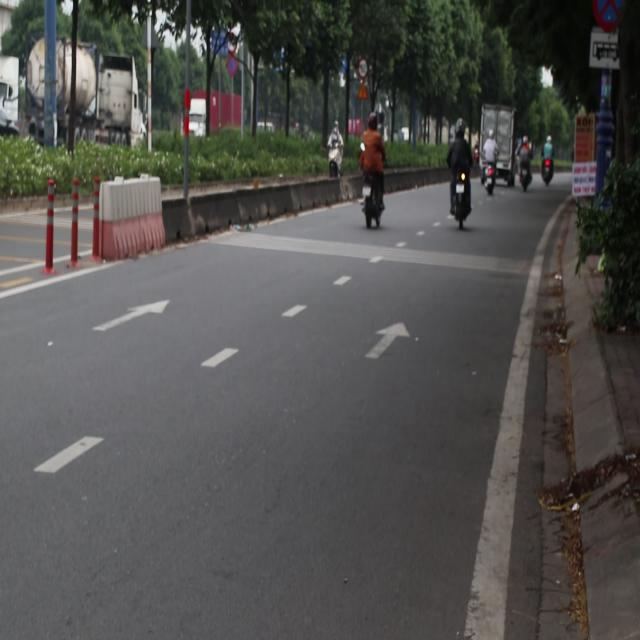motorbike: (362, 144, 389, 224), (448, 169, 468, 235), (318, 144, 344, 178), (482, 154, 500, 201), (517, 154, 532, 192), (542, 156, 557, 189)
truck: (19, 43, 142, 151), (169, 89, 262, 156), (476, 101, 517, 181)
